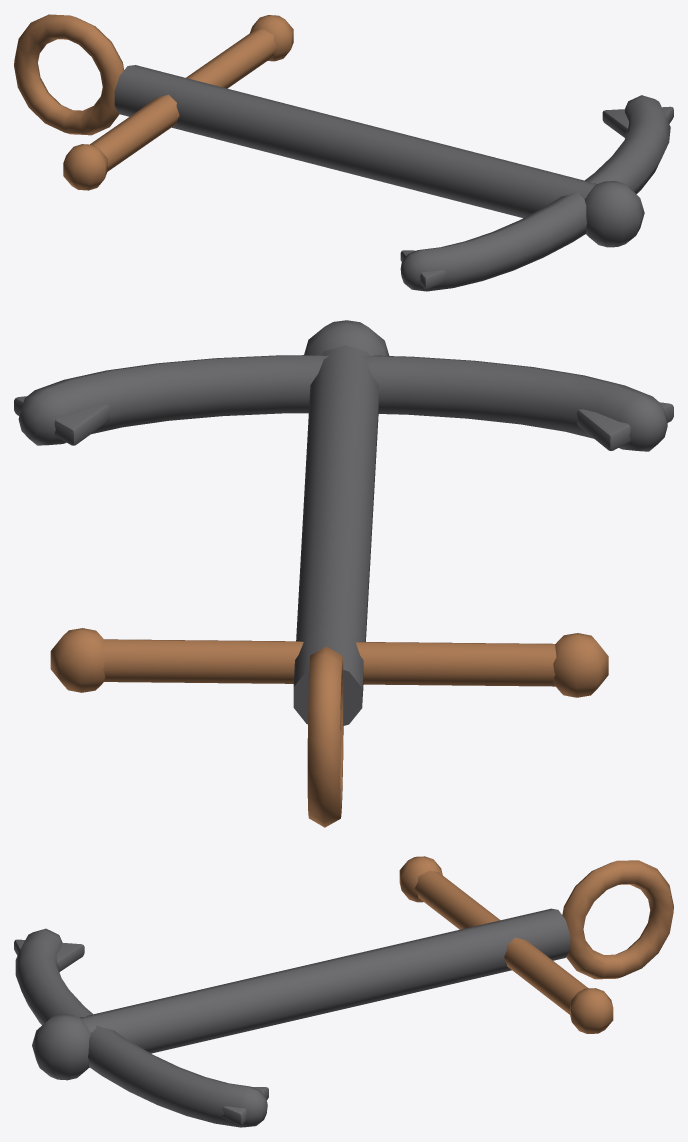
File: anchor.glb
3 views of the same model, one above another, from view 1: azimuth 30°, elevation 25°; view 2: azimuth 150°, elevation 25°; view 3: azimuth 270°, elevation 25° (orthographic). The views are drawn at different scales.
Parts seen in each view (by area): view 1: anchor; view 2: anchor; view 3: anchor.
Part boxes in pixels (x1=…): anchor: x1=14, y1=14, x2=673, y2=291; anchor: x1=14, y1=320, x2=673, y2=827; anchor: x1=14, y1=856, x2=673, y2=1127.
Bounding box in the file's own units: 0.8001 × 0.176 × 0.8921.
